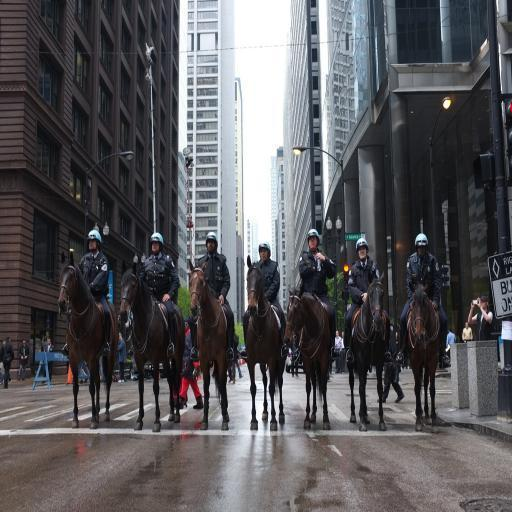horse: (118, 262, 184, 434), (57, 247, 119, 430), (188, 258, 234, 432), (244, 251, 286, 433), (283, 286, 331, 432), (346, 270, 388, 431), (403, 282, 443, 430)
